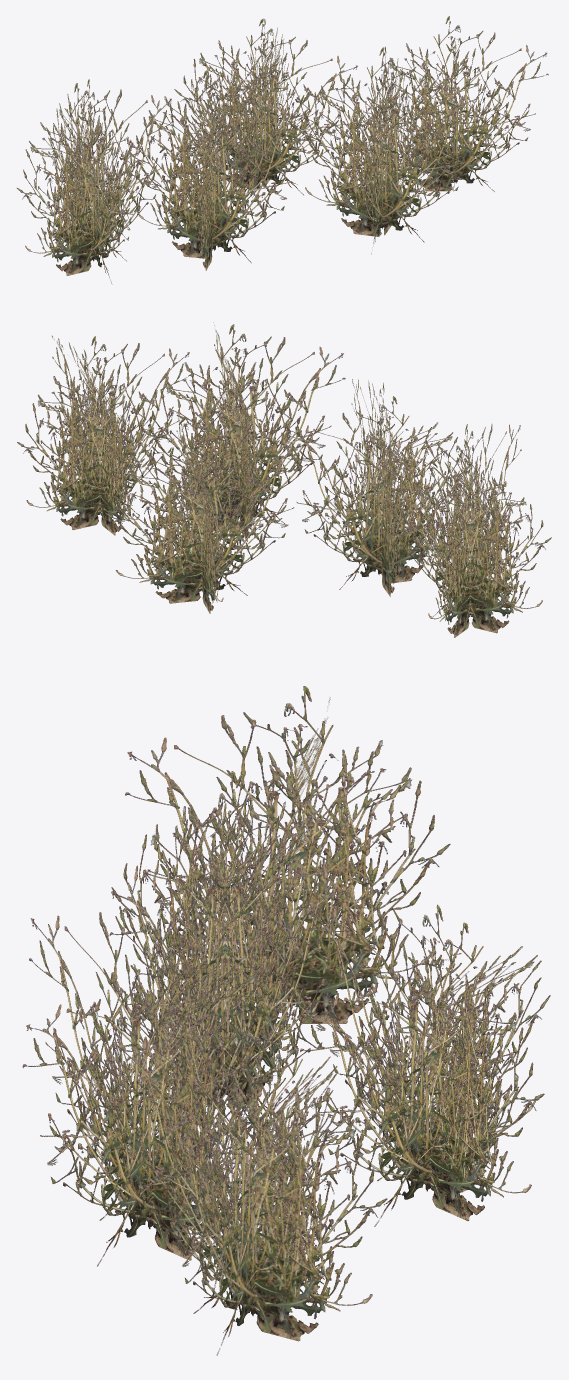
File: Plant_Drygrass_Set.FBX
The picture shows the model from 3 angles, top to bottom: view 1: azimuth 30°, elevation 25°; view 2: azimuth 150°, elevation 25°; view 3: azimuth 270°, elevation 25°; orthographic projection. The views are drawn at different scales.
Parts seen in each view (by area): view 1: Plant_Drygrass_Set; view 2: Plant_Drygrass_Set; view 3: Plant_Drygrass_Set.
Boxes of the visible parts, box(x1,y1,x2,y2) form: Plant_Drygrass_Set: box(17, 16, 548, 284); Plant_Drygrass_Set: box(17, 322, 551, 637); Plant_Drygrass_Set: box(22, 686, 550, 1355).
Size of the model in its own units: 105 by 37.87 by 54.63.
